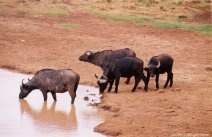buffalo: (17, 68, 80, 105), (93, 57, 144, 95), (78, 48, 137, 71), (144, 55, 173, 91)
